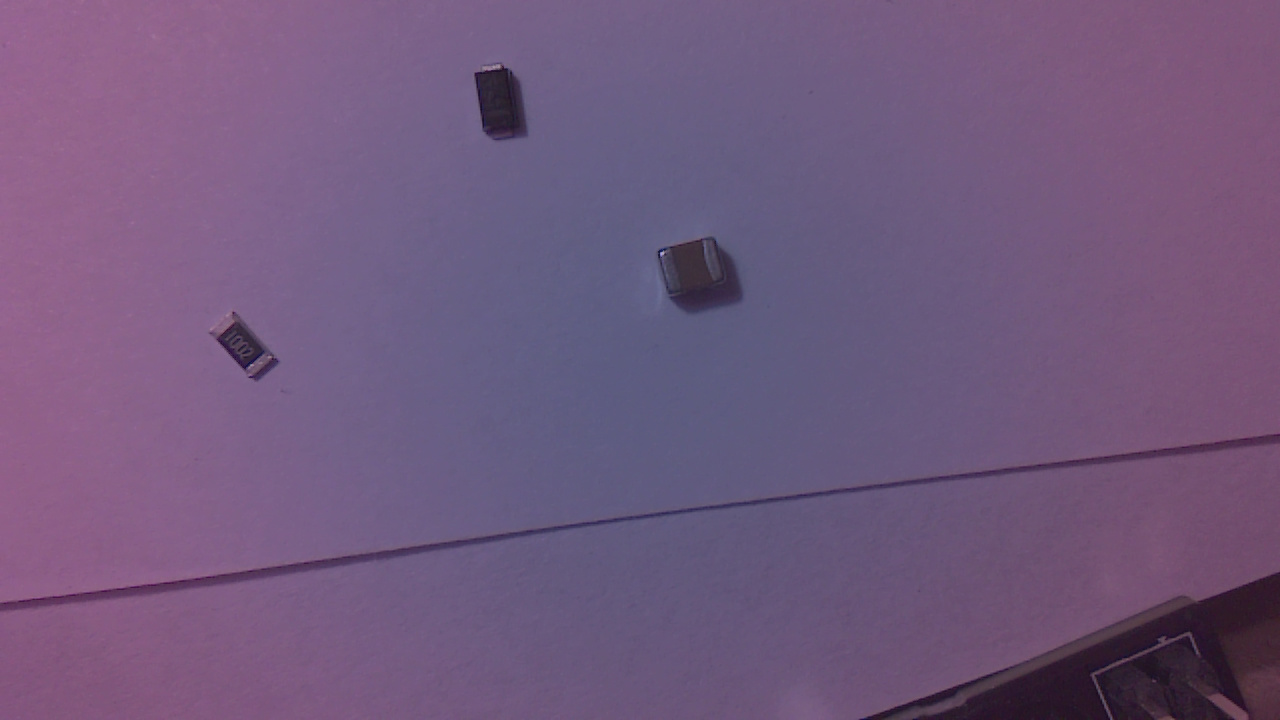Condensator: (661, 242, 732, 301)
Diode: (477, 67, 528, 145)
Resistor: (213, 313, 285, 389)
